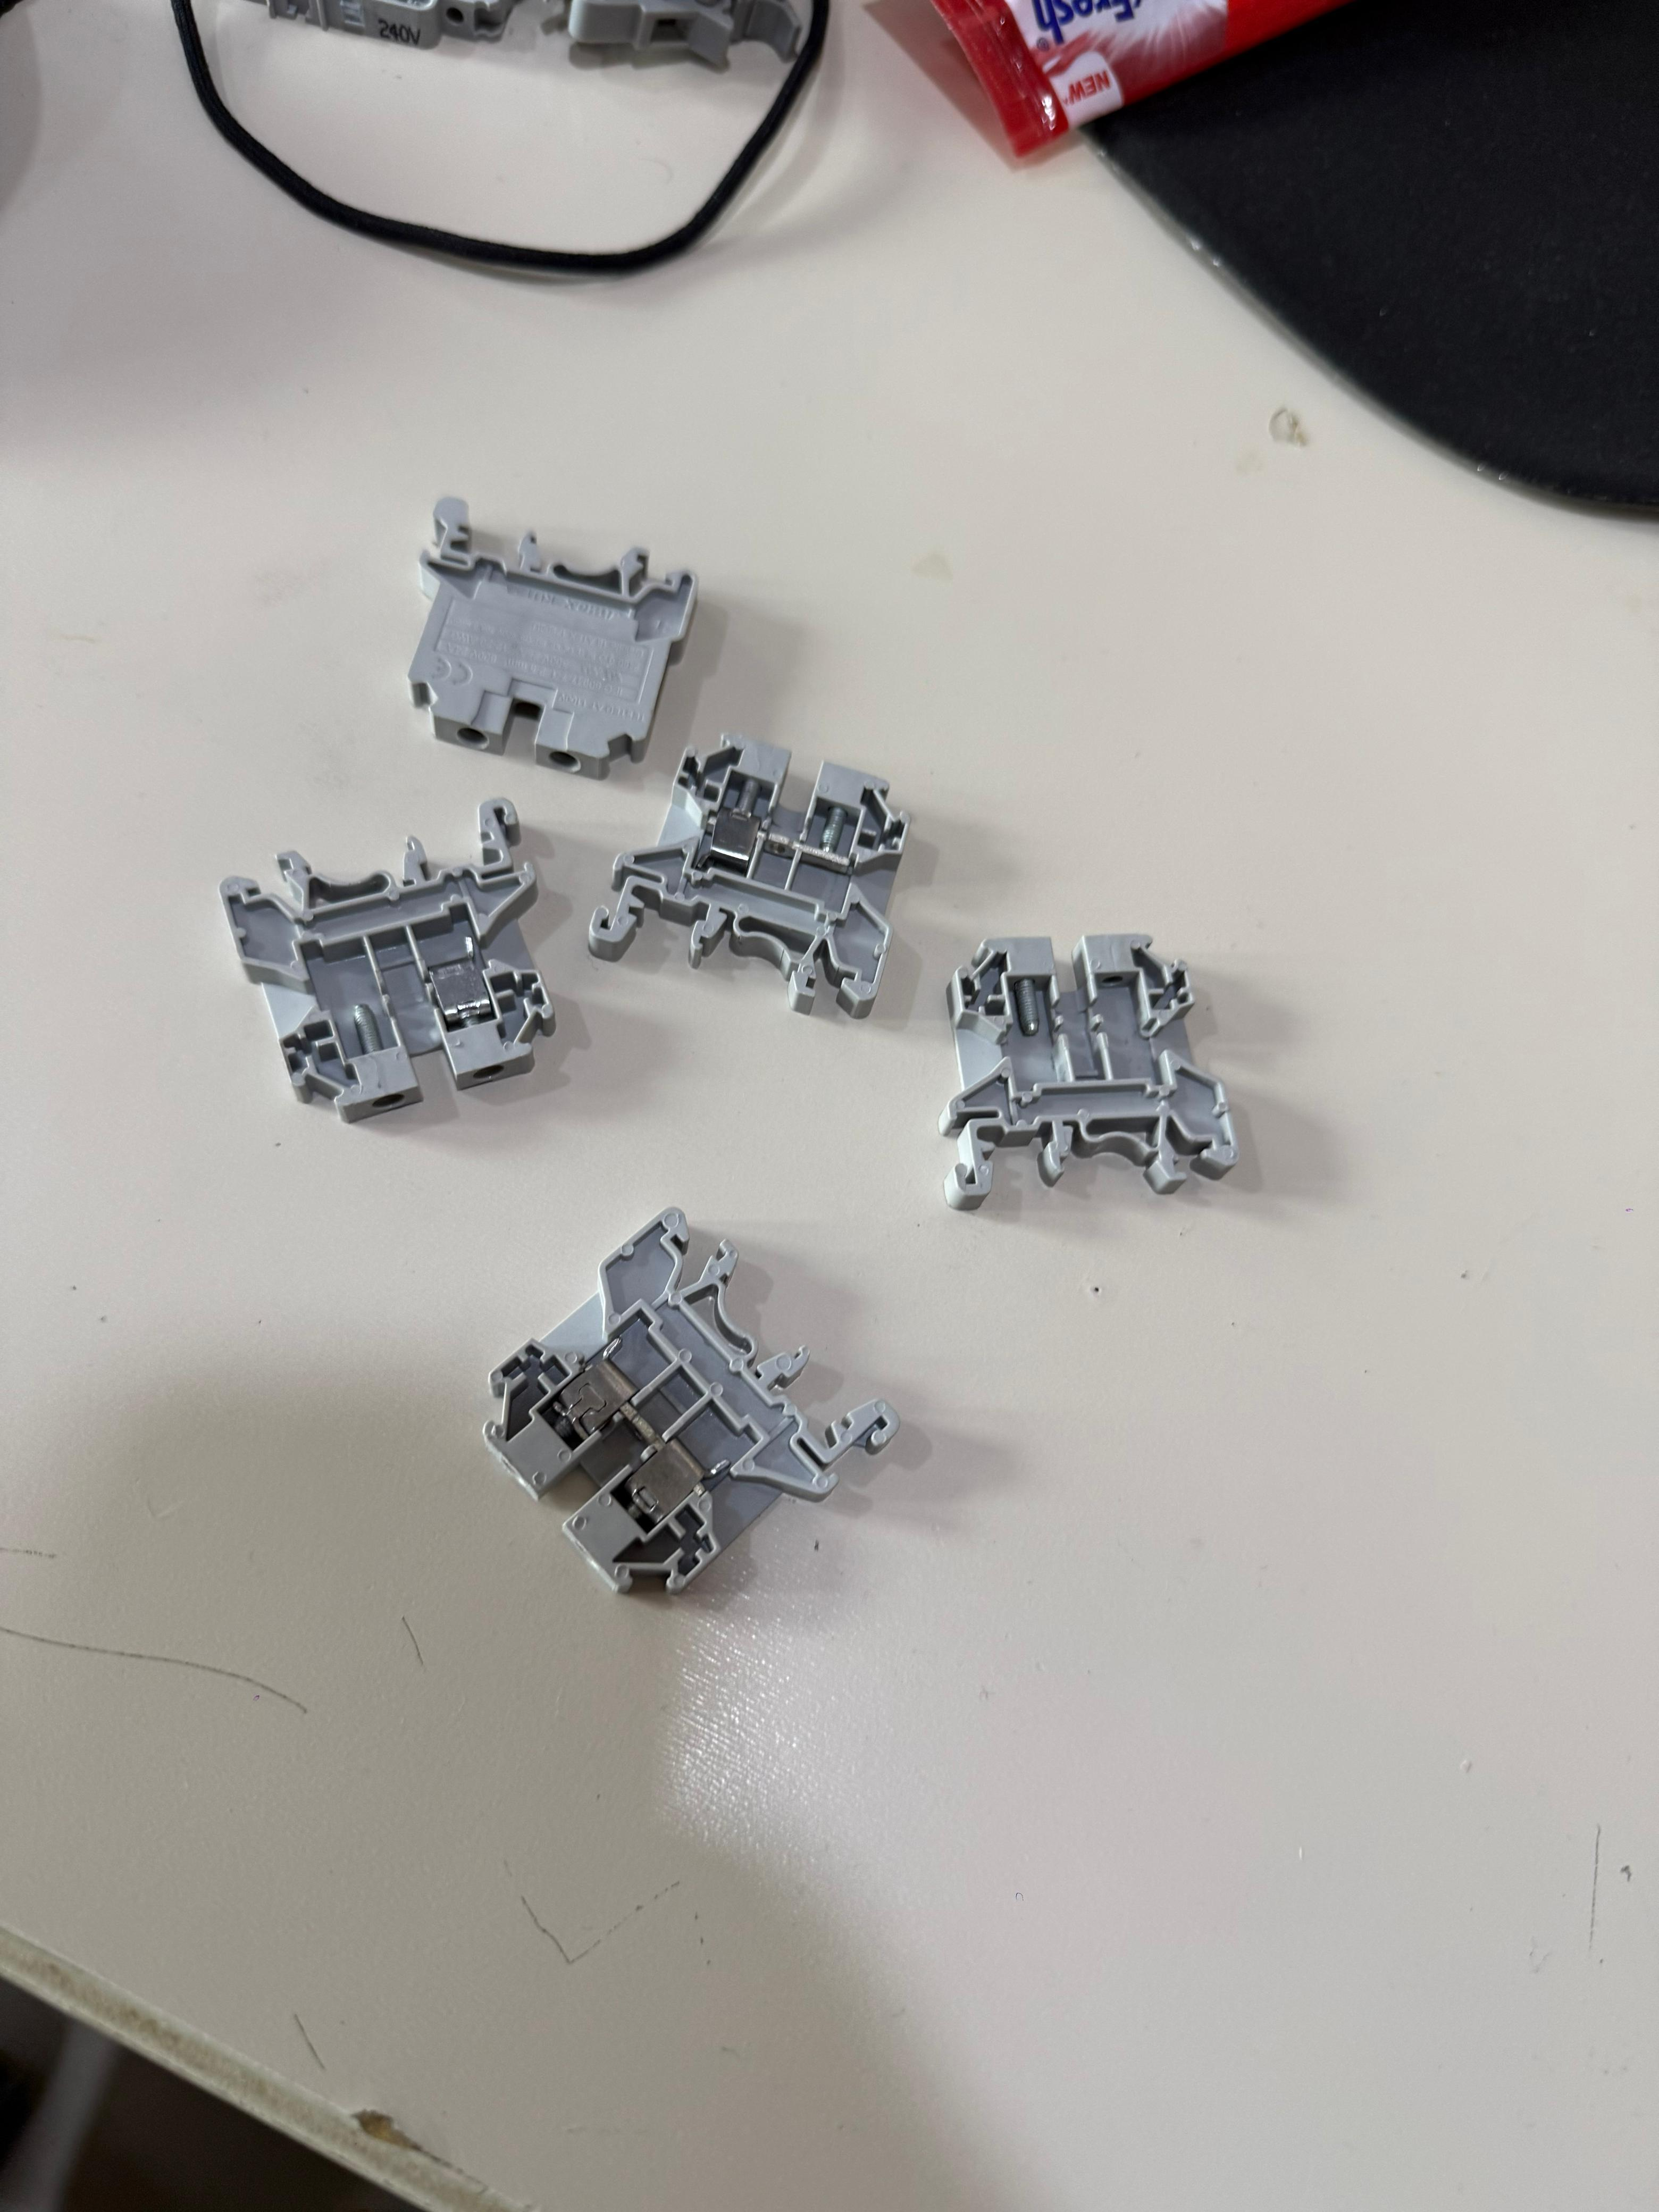Inverted: (403, 491, 688, 763)
Pass: (483, 1205, 908, 1611)
Reject: (216, 799, 566, 1125), (592, 733, 908, 1014), (936, 930, 1239, 1216)
